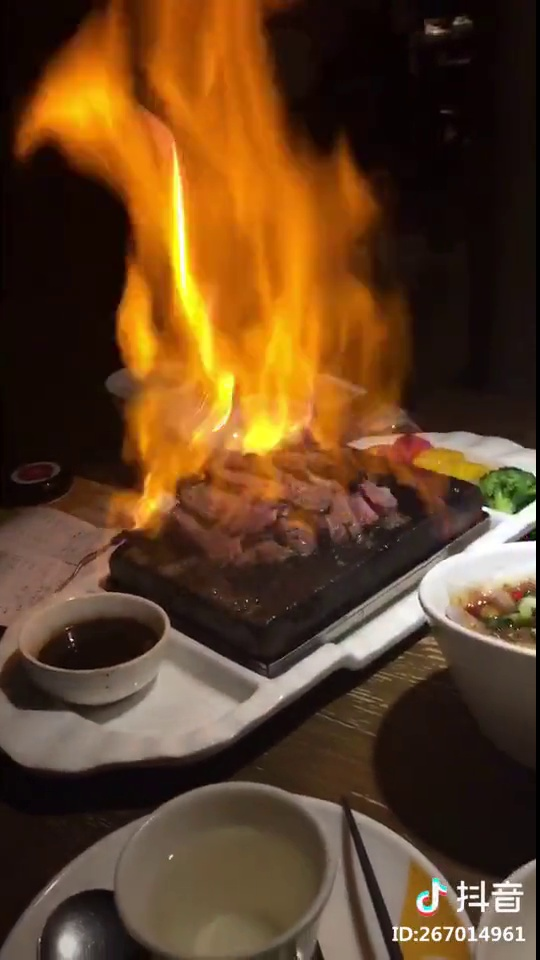fire: (36, 27, 395, 456)
